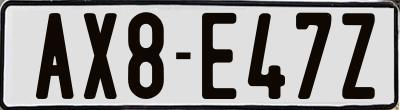4: (247, 11, 288, 102)
7: (295, 10, 331, 96)
8: (126, 9, 164, 96)
A: (36, 13, 77, 104)
E: (200, 13, 240, 102)
X: (82, 13, 118, 99)
Z: (341, 10, 375, 97)
